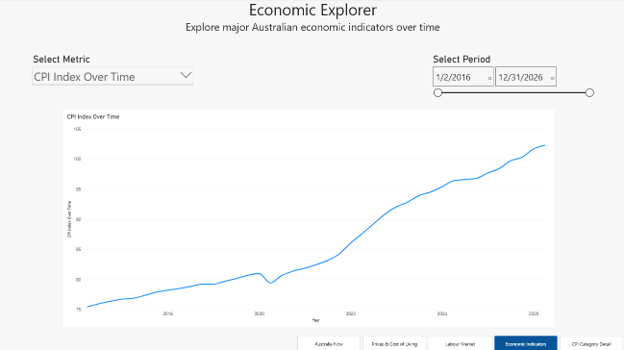

The dashboard page shown, as its layout file describes it:
{"tool":"powerbi","page":{"name":"Economic Indicators","canvas":[1920,1080],"ordinal":3},"visuals":[{"type":"slicer","fields":{"Values":["Economic Metric 2.Economic Metric"]},"box":[96,168,504,168],"z":0},{"type":"lineChart","fields":{"Category":["DimDate.Date"],"Y":["CPI_from2016.CPI Quarterly Index"]},"box":[192,336,1512,672],"z":1000},{"type":"textbox","box":[0,0,1920,168],"z":2000},{"type":"slicer","title":"Select period","fields":{"Values":["DimDate.Date"]},"box":[1320,168,504,240],"z":3000},{"type":"pageNavigator","box":[912,1032,1000,50],"z":4000}]}

Visuals, with their boxes in screenshot pixels (x1, y1, x2, y2), scaled from the page's 1920x1080 canvas onto the 624x350 screenshot:
slicer - Economic Metric 2.Economic Metric: select_region(31, 54, 195, 109)
lineChart - DimDate.Date x CPI_from2016.CPI Quarterly Index: select_region(62, 109, 554, 327)
textbox: select_region(0, 0, 623, 54)
"Select period" slicer: select_region(429, 54, 593, 132)
pageNavigator: select_region(296, 334, 621, 349)
